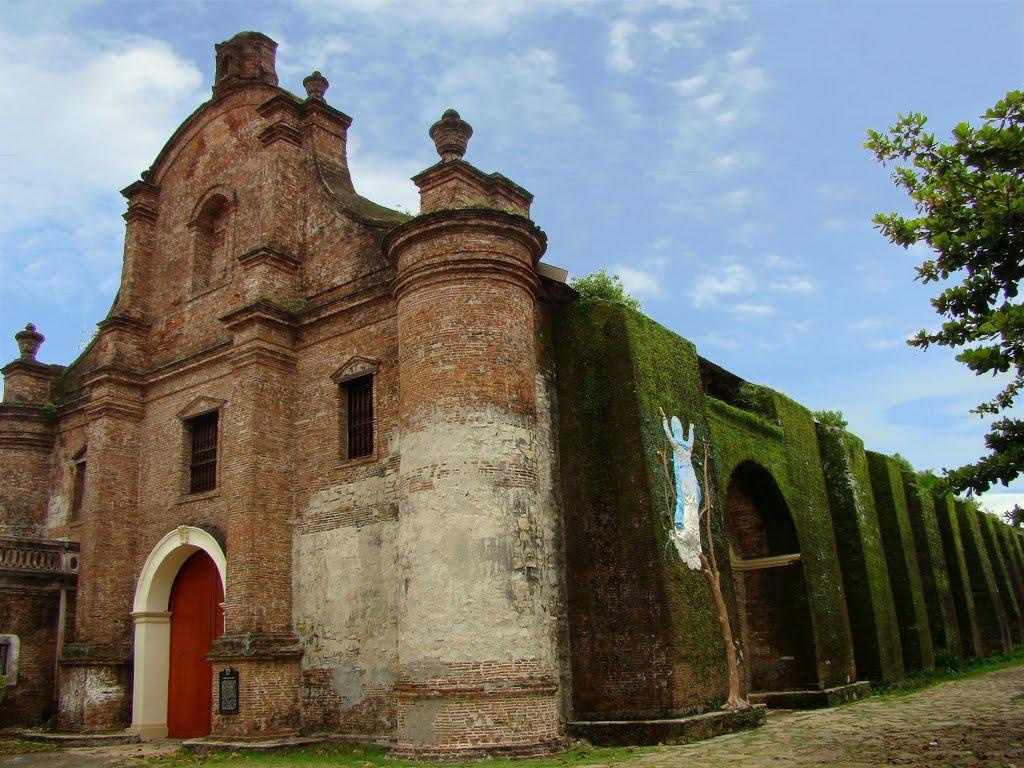santa_maria_church_santa_maria_ilocos_sur: (3, 26, 569, 768)
unfinished_paint: (284, 404, 574, 703)
water_damage_or_mold: (631, 315, 712, 421), (803, 529, 849, 652), (675, 572, 723, 673), (786, 399, 826, 510), (723, 409, 779, 476), (890, 461, 909, 525), (853, 455, 871, 510)
